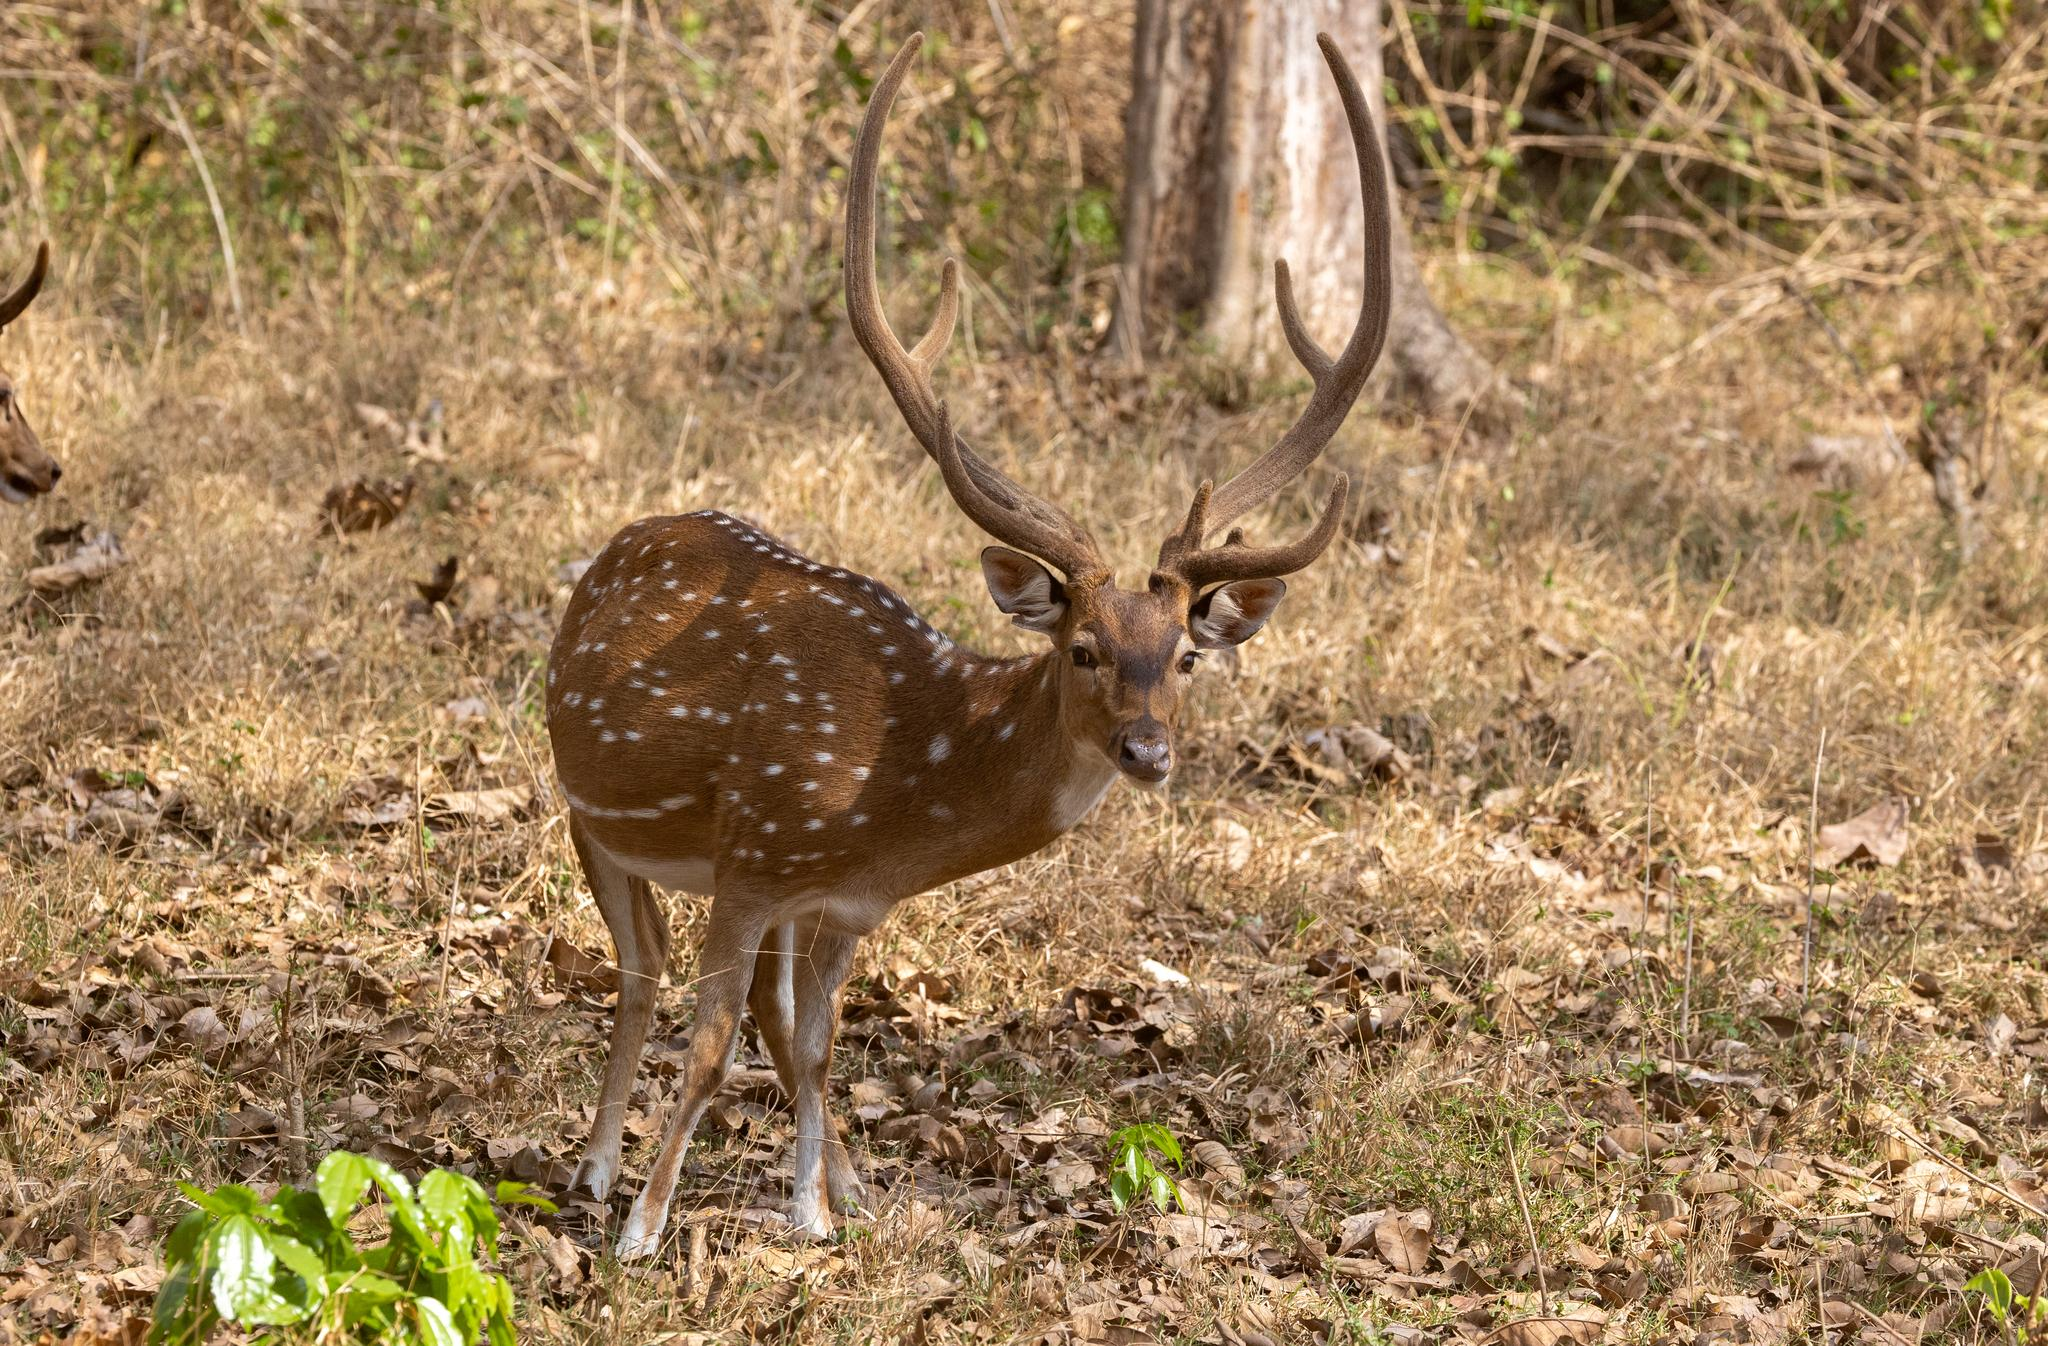Deer: (548, 47, 1345, 1257), (1213, 41, 1390, 527)
